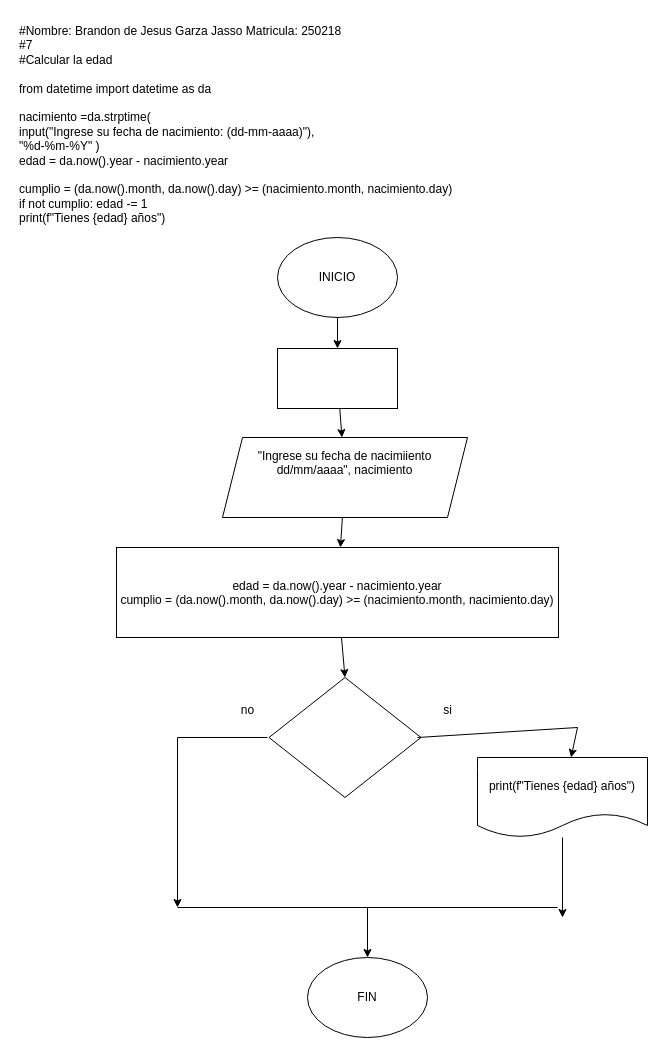
The diagram is 665 pixels wide and 1055 high, and some of its shapes have lost their labels. The shapes that lost their labels are listed below. From the top down, each one's centre as x and y in pixels, then its label:
At (337,378): "int edad int nacimiento int cumplio".
At (344,737): "cumplio: edad -= 1".
